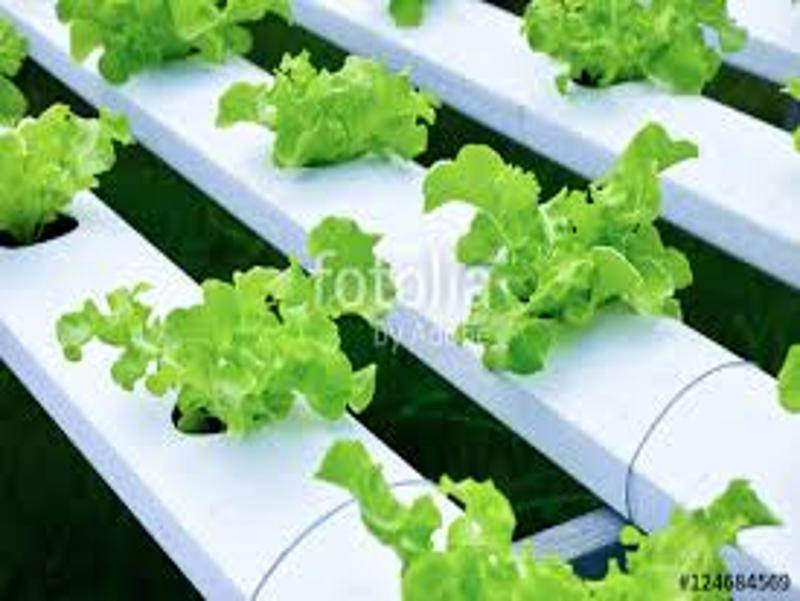green lettuce: (328, 434, 761, 601), (85, 226, 383, 424), (440, 144, 692, 366), (234, 49, 436, 163), (524, 1, 743, 99), (1, 106, 132, 225)
